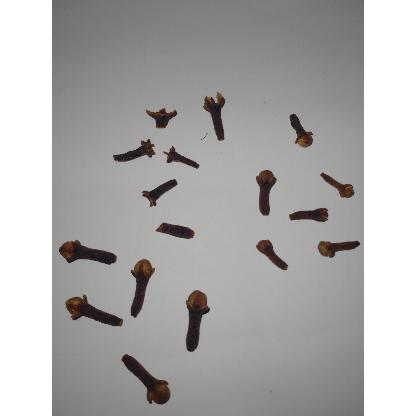baik: (121, 355, 171, 407), (64, 294, 123, 328), (185, 291, 210, 354), (58, 240, 117, 266), (130, 259, 155, 319)
buruk: (112, 139, 156, 164), (204, 93, 226, 142), (142, 179, 178, 208), (165, 146, 199, 170), (156, 223, 195, 240), (148, 108, 176, 130)
sedang: (255, 239, 288, 272), (256, 170, 277, 217), (322, 173, 355, 200), (291, 115, 313, 149), (318, 241, 359, 259), (289, 208, 329, 224)
